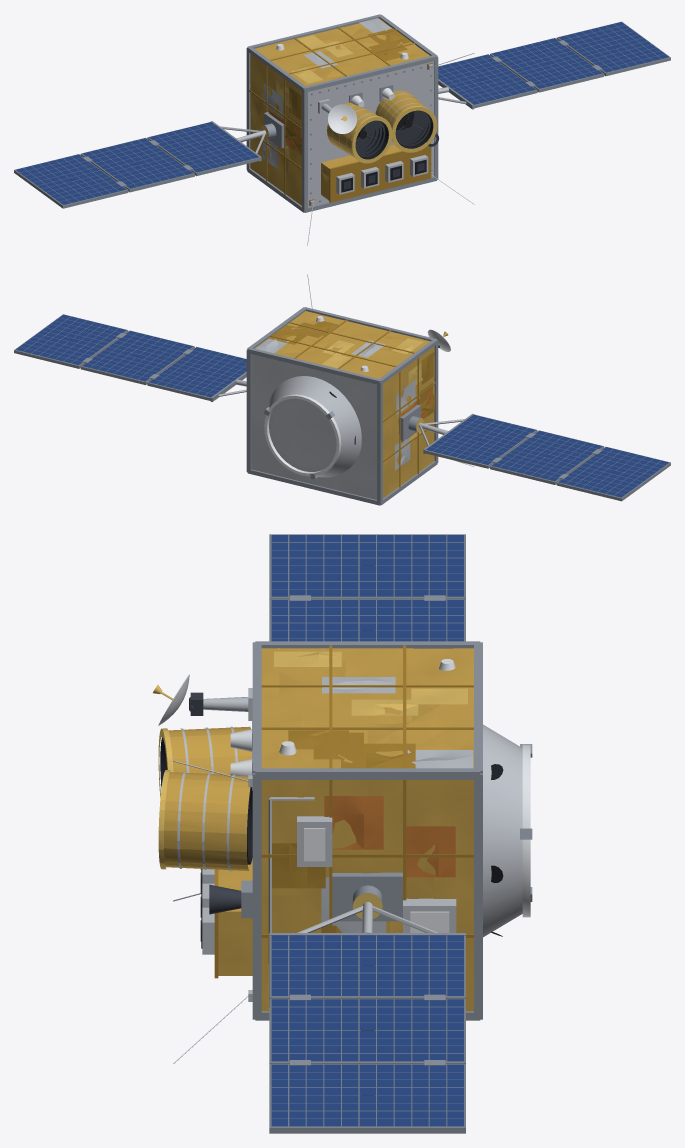
The model's file is gaofen-1.glb.
3 renders of one model, top to bottom at view 1: azimuth 30°, elevation 25°; view 2: azimuth 150°, elevation 25°; view 3: azimuth 270°, elevation 25°, orthographic. The views are drawn at different scales.
Parts seen in each view (by area): view 1: body, solar-panel, foil; view 2: foil, solar-panel, body; view 3: foil, solar-panel, body.
Boxes of the visible parts, left/top/right/bottom form: body: left=14, top=14, right=670, bottom=245; solar-panel: left=14, top=21, right=670, bottom=205; foil: left=249, top=18, right=437, bottom=205; foil: left=251, top=311, right=435, bottom=499; solar-panel: left=14, top=314, right=670, bottom=498; body: left=14, top=274, right=670, bottom=505; foil: left=158, top=645, right=473, bottom=1011; solar-panel: left=269, top=534, right=465, bottom=1127; body: left=153, top=565, right=532, bottom=1133.
Size of the model in its own units: 7.93 by 1.9 by 2.15.
